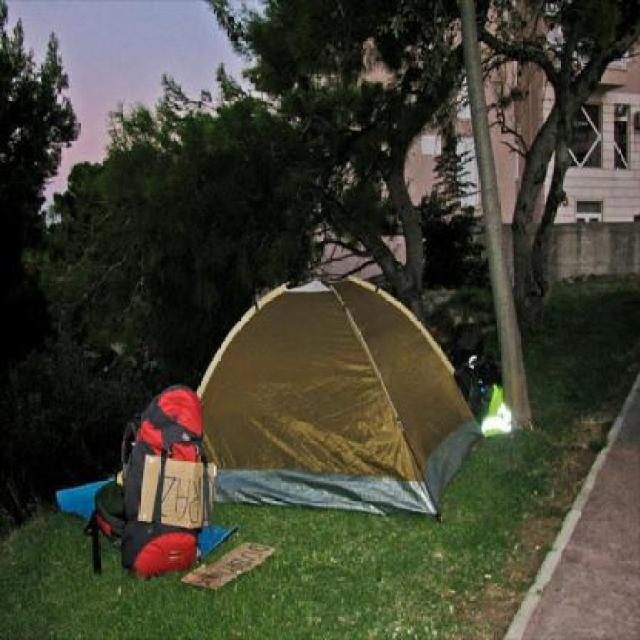backpack: (114, 379, 211, 583)
